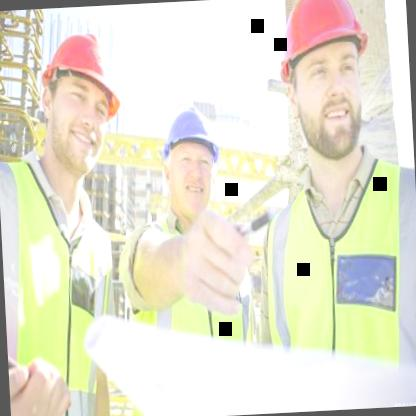helmet: (265, 0, 386, 167), (24, 17, 134, 183), (150, 86, 230, 226)
